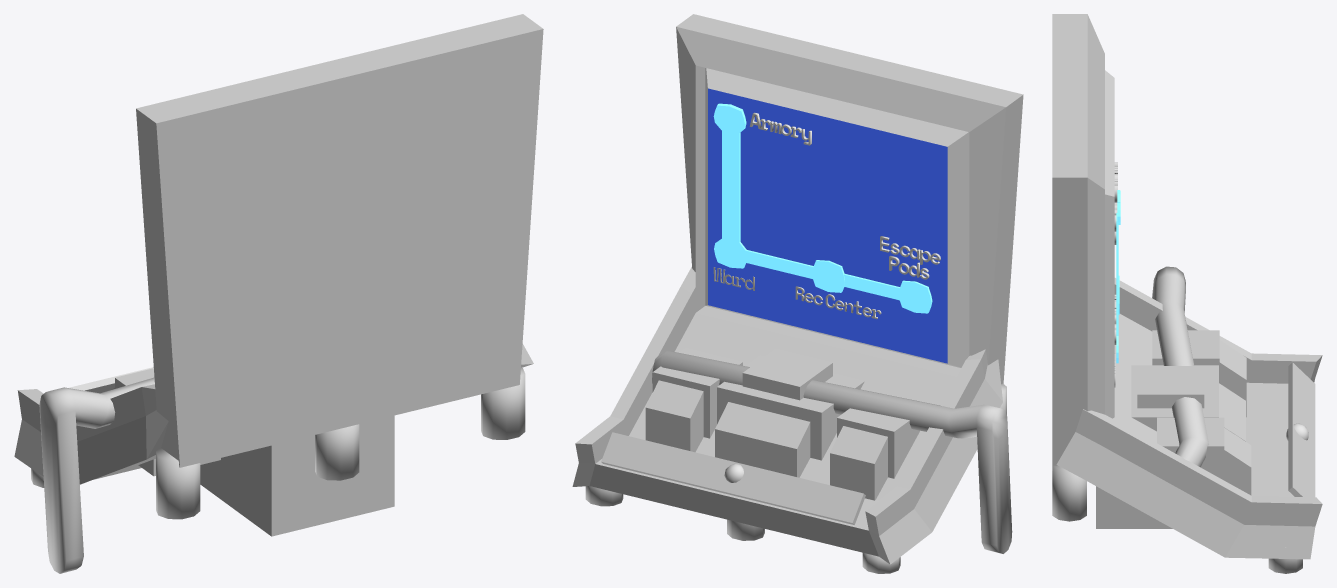
Rendered from computer.fbx.
3 views of the same model, side by side, from view 1: azimuth 30°, elevation 25°; view 2: azimuth 150°, elevation 25°; view 3: azimuth 270°, elevation 25° (orthographic). The views are drawn at different scales.
Parts seen in each view (by area): view 1: computer; view 2: computer; view 3: computer.
Boxes of the visible parts, x1=… form: computer: x1=14, y1=14, x2=543, y2=573; computer: x1=572, y1=14, x2=1023, y2=573; computer: x1=1052, y1=14, x2=1322, y2=573.
Size of the model in its own units: 1273 by 1375 by 804.
